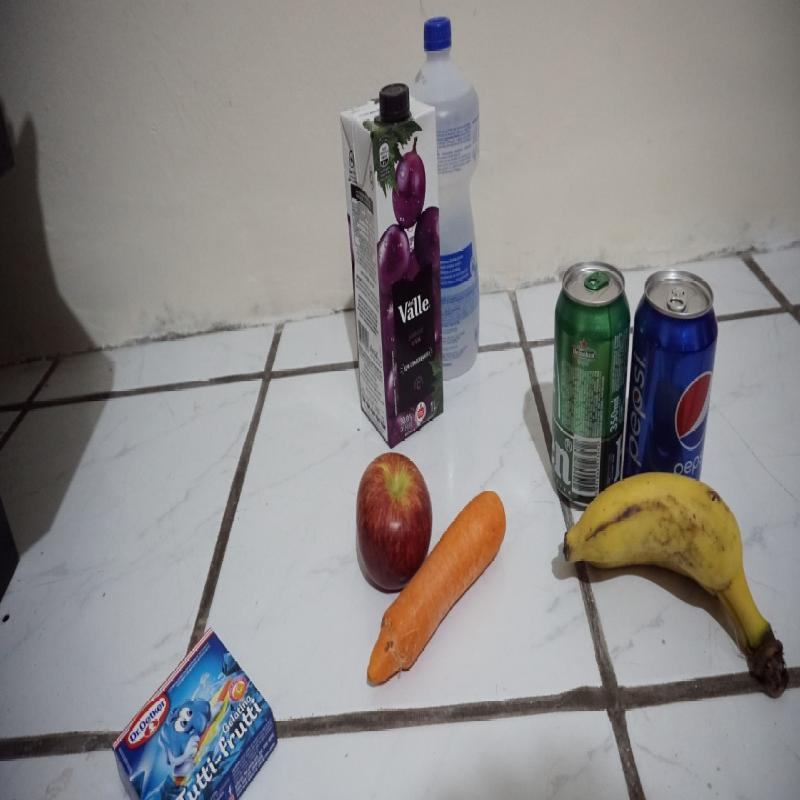Alcohol Bottle: (410, 14, 482, 380)
Apple: (353, 451, 435, 596)
Banana: (561, 471, 786, 701)
Beer can: (553, 261, 630, 507)
Carrot: (366, 490, 506, 686)
Gelatine: (108, 626, 278, 797)
Soda can: (632, 267, 720, 511)
